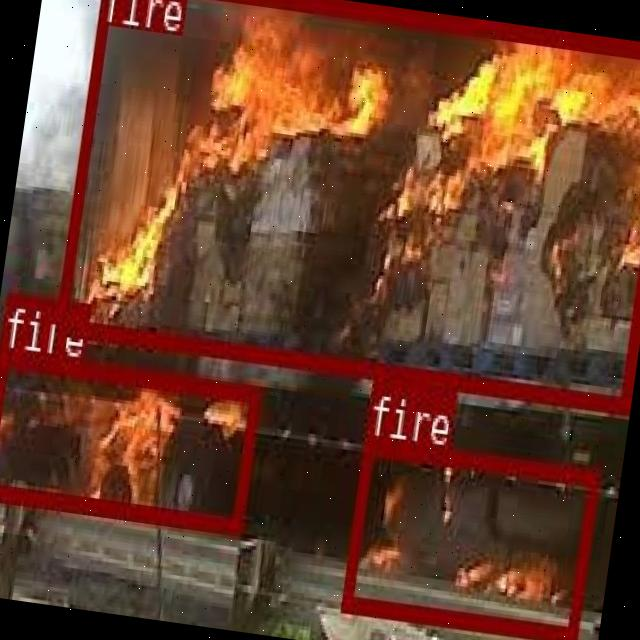fire: (53, 0, 640, 408), (339, 434, 598, 640), (0, 348, 259, 532)
